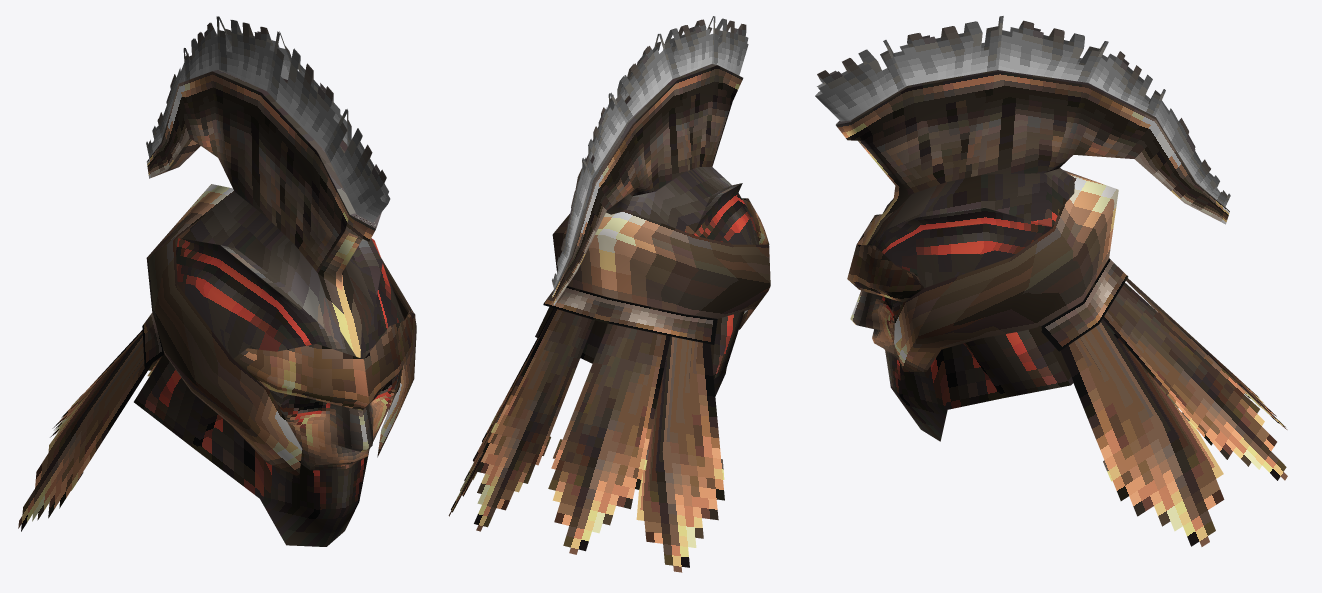
The model's file is f_hair122.glb.
3 renders of one model, left to right at view 1: azimuth 30°, elevation 25°; view 2: azimuth 150°, elevation 25°; view 3: azimuth 270°, elevation 25°, orthographic. The views are drawn at different scales.
Bounding box in the file's own units: 32.32 × 49.66 × 46.62.
Materials: 1 (1 with a texture image).
